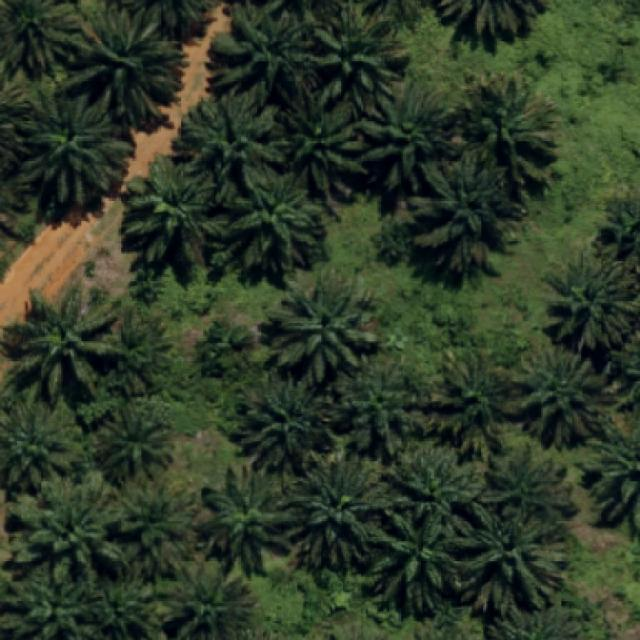Kelapa_Sawit: (60, 6, 188, 132), (16, 85, 135, 207), (5, 285, 123, 406), (412, 152, 526, 274), (176, 88, 286, 208), (9, 478, 129, 588), (456, 501, 570, 614), (272, 270, 381, 387), (121, 150, 228, 268), (358, 76, 456, 202), (368, 508, 479, 615), (207, 4, 321, 108), (462, 71, 560, 191), (290, 456, 392, 570), (423, 341, 517, 464), (200, 462, 295, 578), (231, 162, 326, 273), (314, 0, 408, 112), (238, 374, 338, 477), (519, 342, 613, 448), (273, 93, 369, 192), (393, 448, 484, 547), (476, 442, 576, 530), (338, 354, 418, 460), (118, 478, 200, 574), (100, 398, 172, 484), (106, 309, 174, 383)
